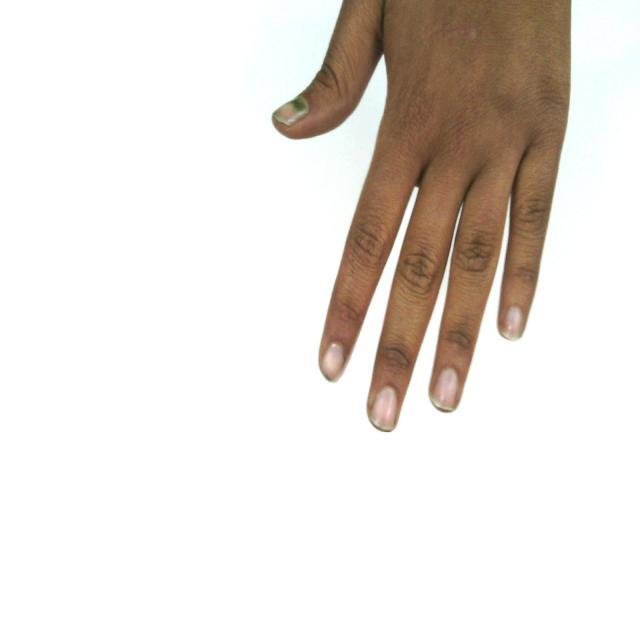Fingernail: (369, 385, 399, 431), (430, 367, 458, 411), (273, 95, 308, 126), (322, 341, 344, 380), (501, 305, 525, 340)
